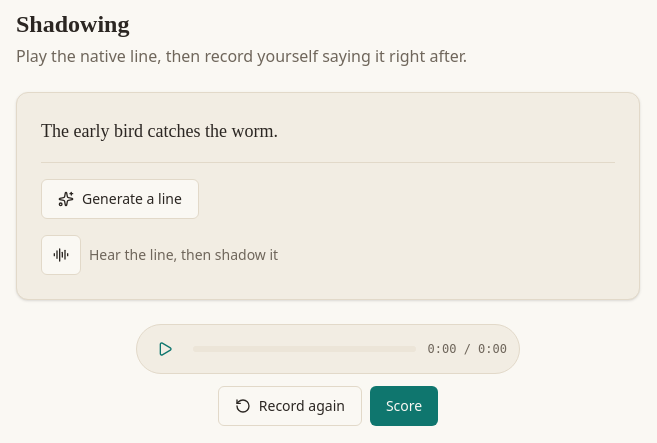
it: Shadowing › should replace the line with a generated one
Click the button "Generate a line" at (120,199), box top-left (41, 179), bottom-right (199, 219)
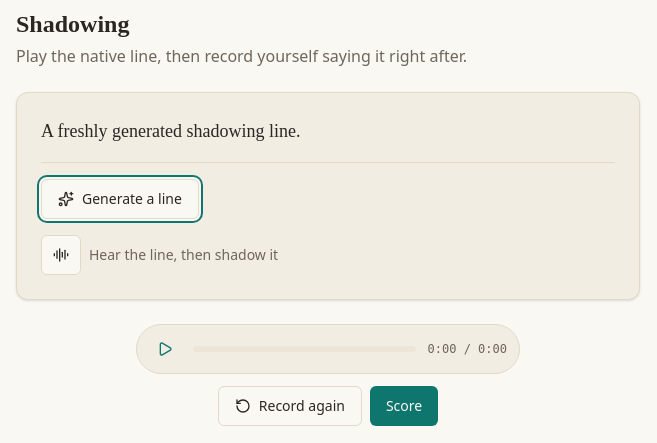
Now the text "A freshly generated shadowing line." is shown, box top-left (41, 121), bottom-right (300, 141)
